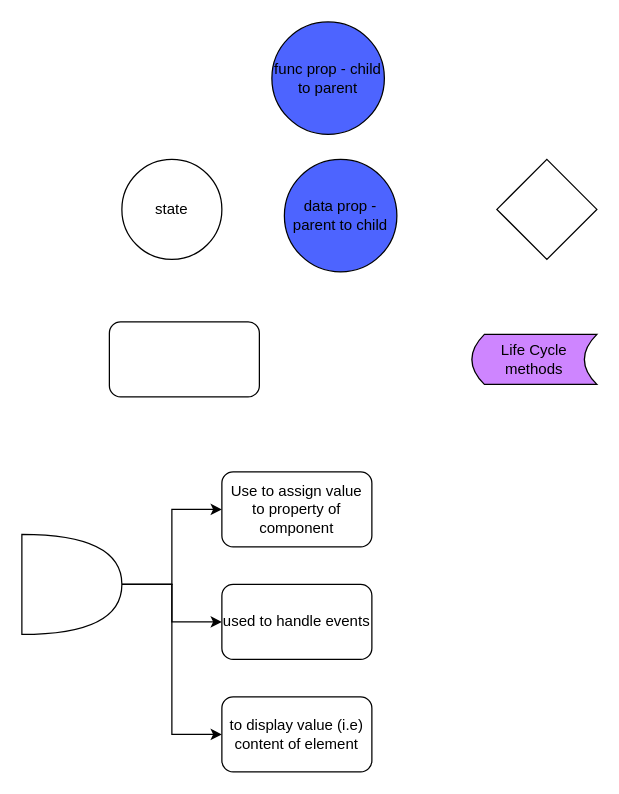
Some shapes in this 619 by 794 pixel diagram are drawn without their labels. Here are the shapes that lost their labels. From the top down, the box of each, then its label:
(496, 158, 597, 259): Key
(108, 321, 259, 397): Component
(21, 533, 122, 634): expression
